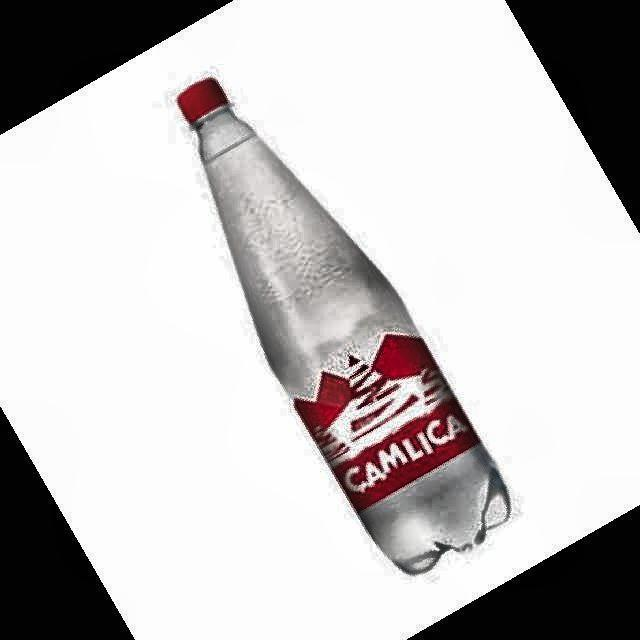plastic: (178, 79, 510, 573)
